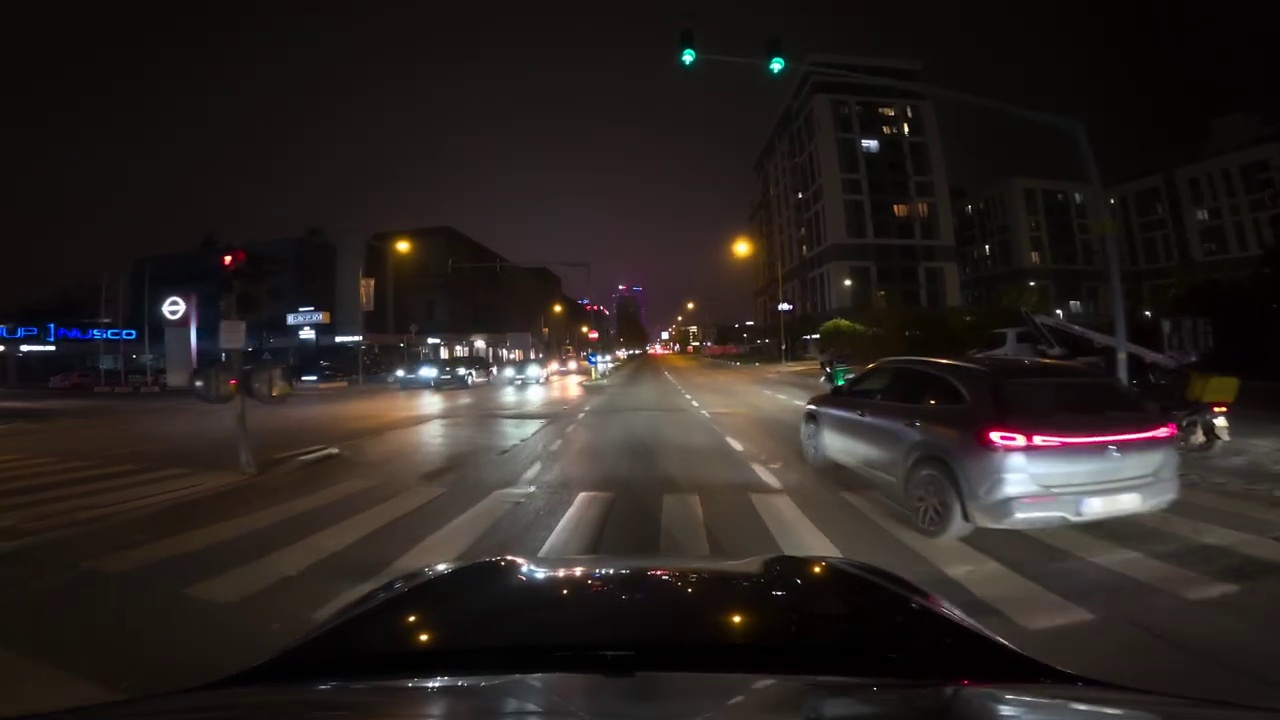acesa: (729, 234, 756, 262), (391, 235, 416, 259)
